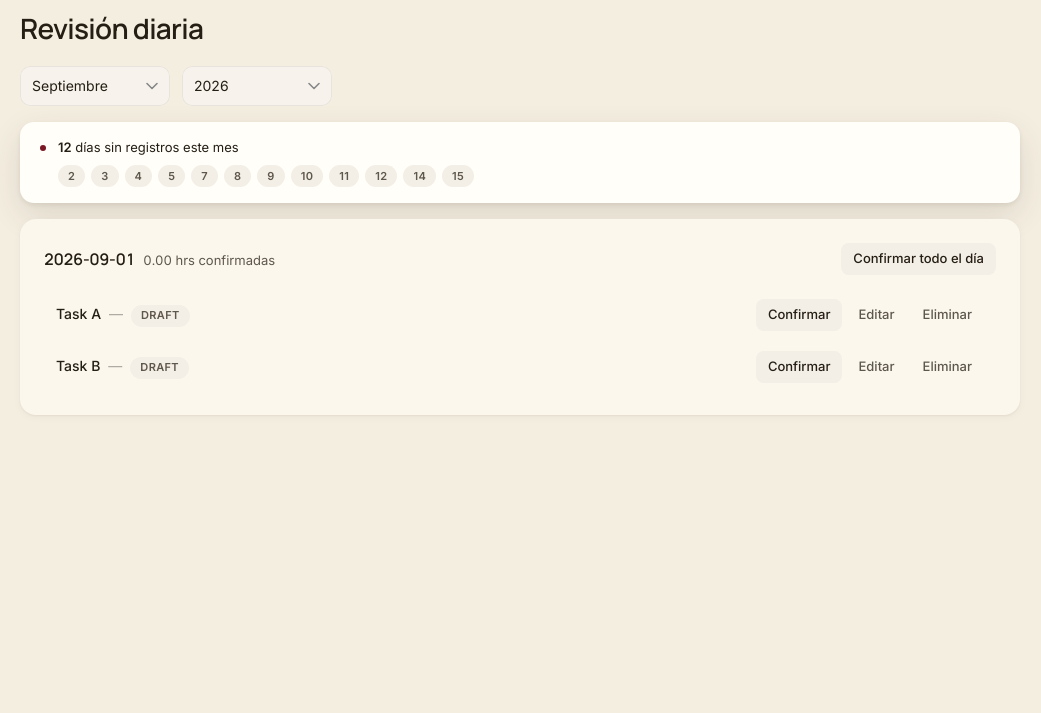
Test: DailyReview › editing an entry inline pre-fills the form and saves the changes
The width and height of the screenshot is (1041, 713).
Click the button "Editar" in the row of "Task A": (877, 315) [846, 299, 907, 331]
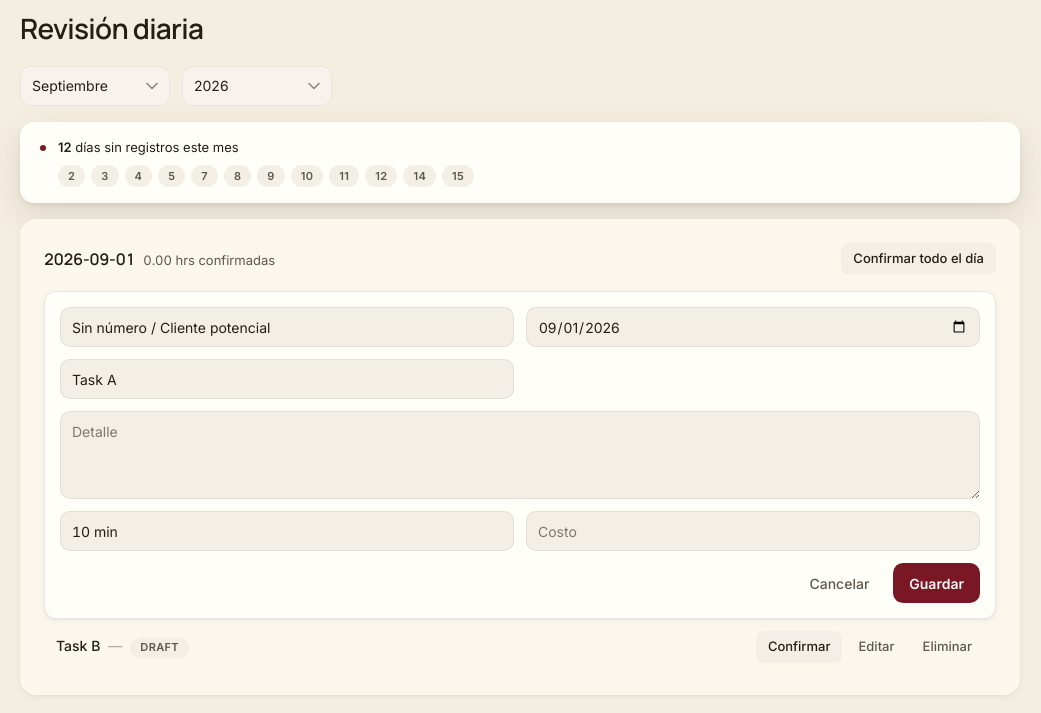
Now the field named "Task" holds "Task A"
Now the field named "Tiempo" holds "10 min", box [60, 511, 514, 551]
Now the dropdown named "matter" holds "Sin número / Cliente potencial", box [60, 307, 514, 347]
Replace the text in the field named "Task" with "Task A editada": (287, 379) [60, 359, 514, 399]
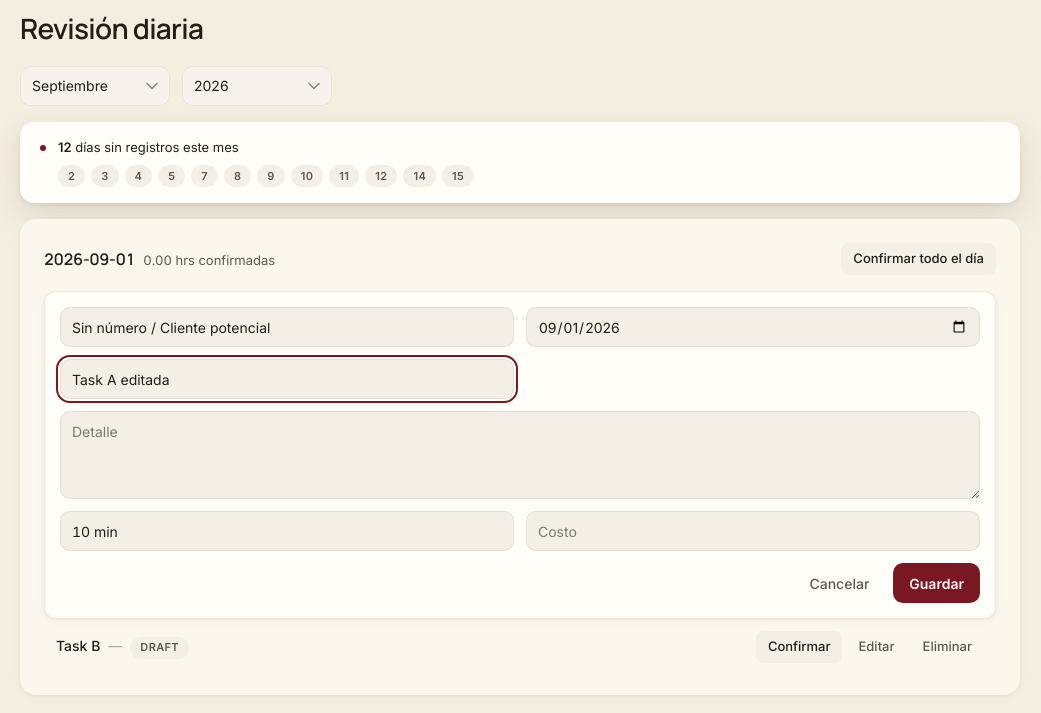
Replace the text in the field named "Tiempo" with "45 min": (287, 531) [60, 511, 514, 551]
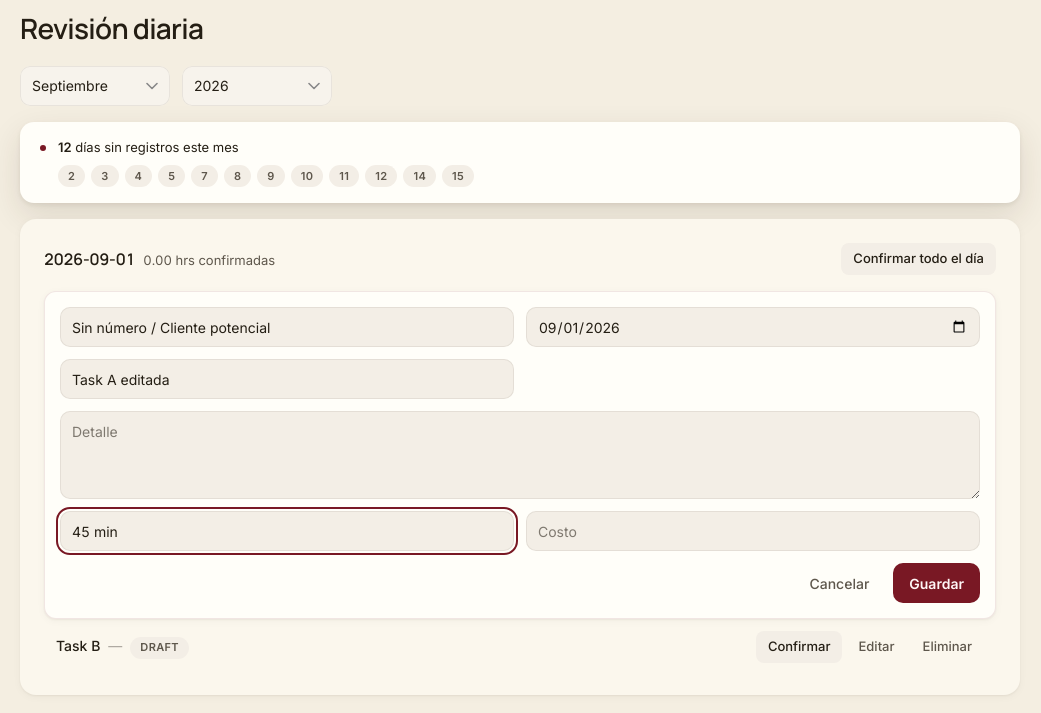
Click the button "Guardar": (937, 583) [893, 563, 980, 603]
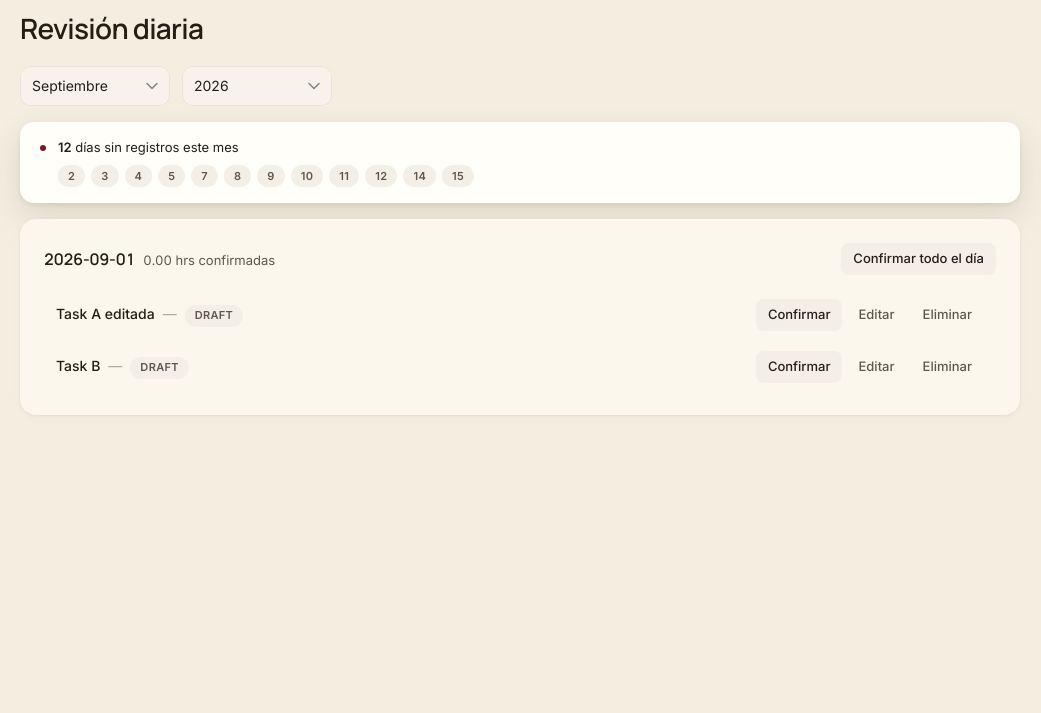
Now the text "Task A editada" is shown, box [56, 304, 155, 324]
